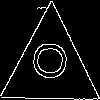O: (25, 40, 67, 81)
